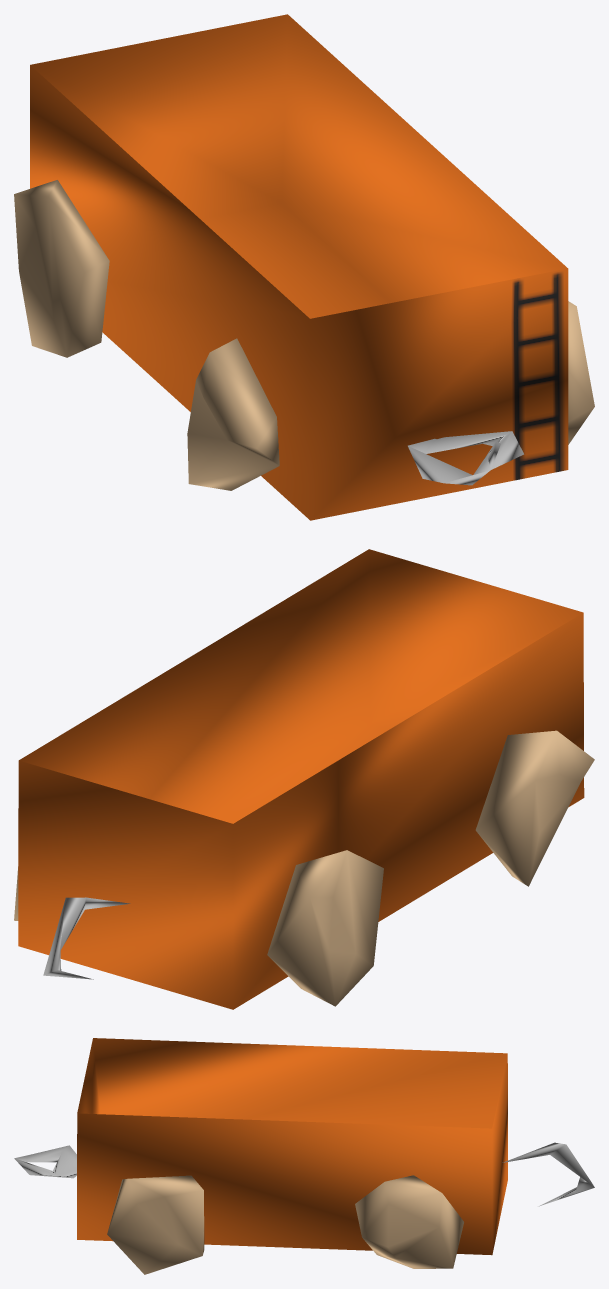
File: orange_LOD2.fbx
The picture shows the model from 3 angles, top to bottom: view 1: azimuth 30°, elevation 25°; view 2: azimuth 150°, elevation 25°; view 3: azimuth 270°, elevation 25°; orthographic projection. The views are drawn at different scales.
Visible parts, largest first — view 1: vagone5; view 2: vagone5; view 3: vagone5.
Part boxes in pixels (x1,y1,x2,y2): vagone5: (14, 14, 594, 520); vagone5: (14, 549, 594, 1009); vagone5: (14, 1038, 594, 1274).
Bounding box in the file's own units: 304 × 179 × 645.
Materials: 3 (1 with a texture image).
